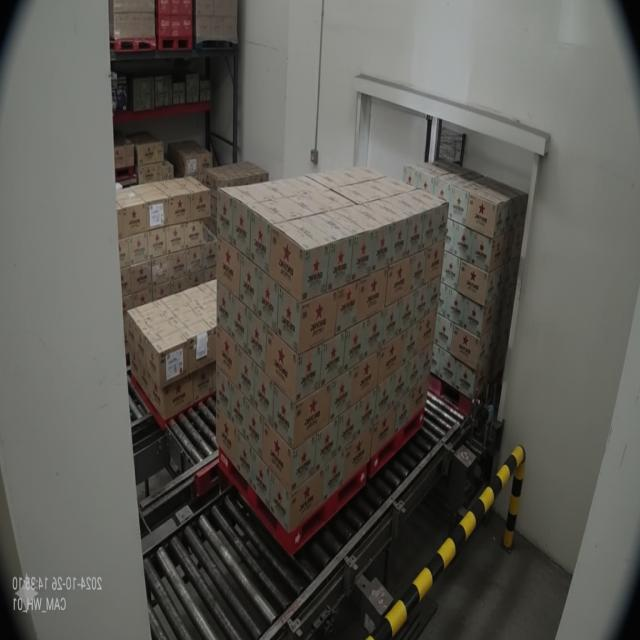pallet: (203, 154, 370, 565), (400, 148, 530, 424), (362, 132, 450, 493)
